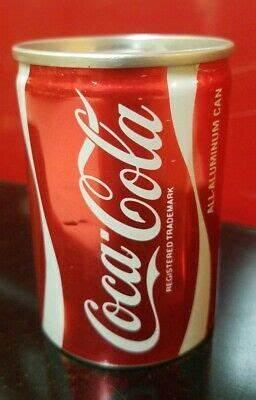metal: (13, 34, 234, 368)
